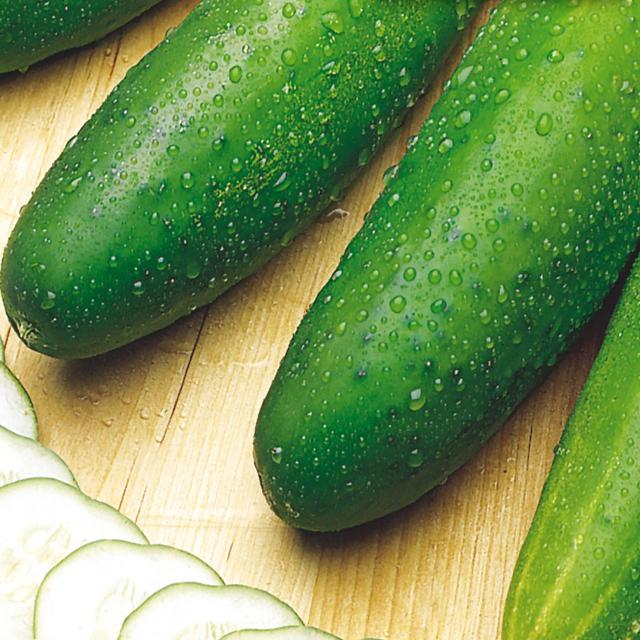Pickle: (255, 0, 640, 531), (1, 0, 479, 359), (501, 255, 640, 640), (0, 0, 160, 72)
